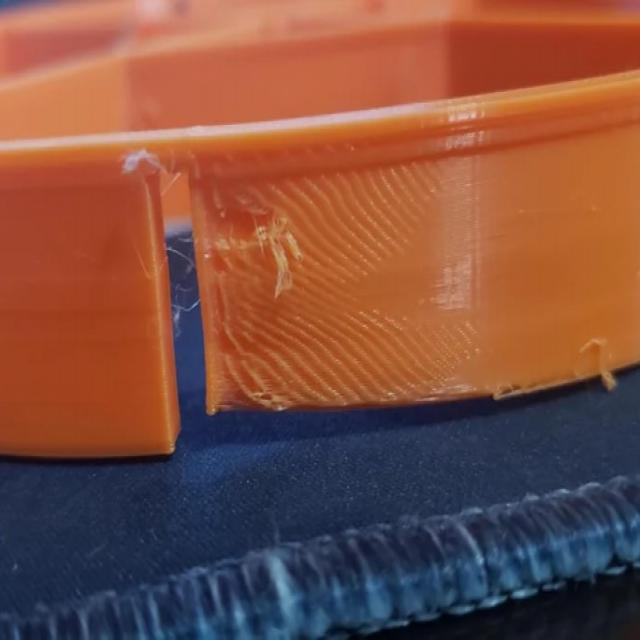Warping: (202, 387, 424, 425)
